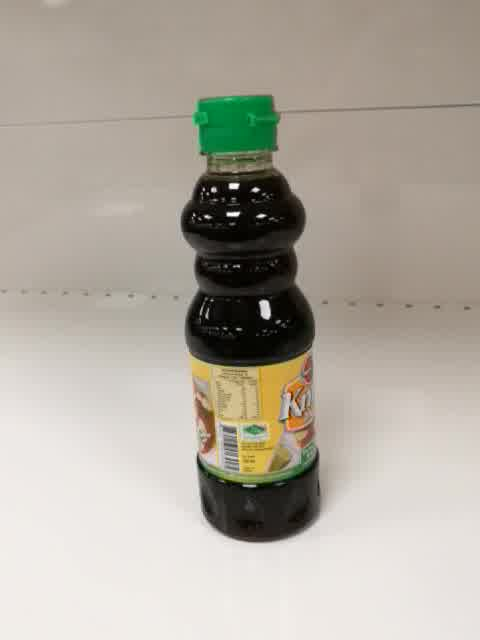cookingoil: (176, 92, 323, 545)
